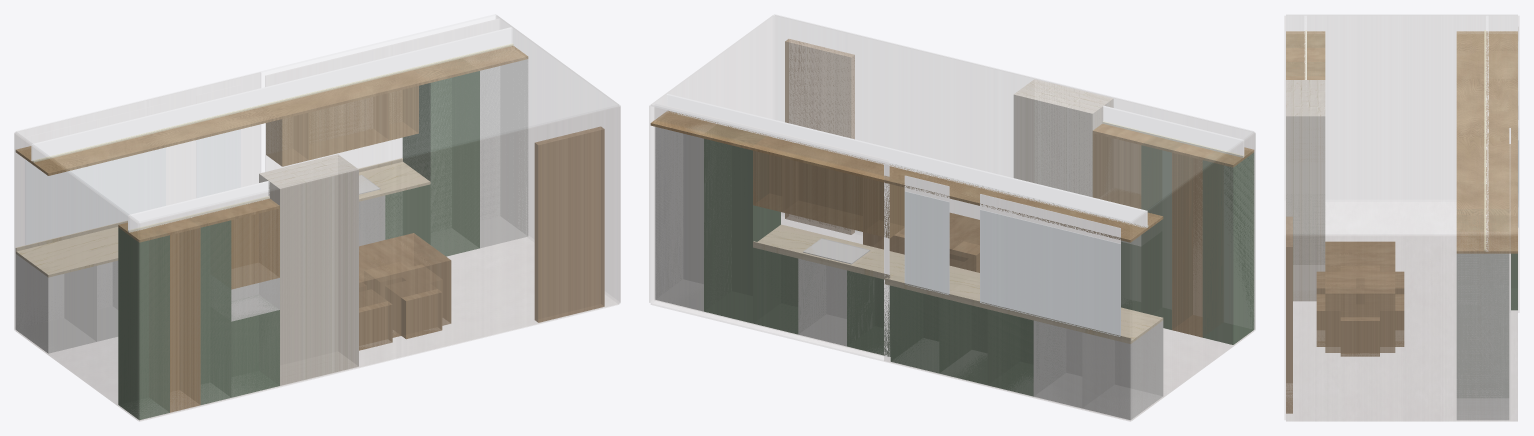
Rendered from cocina.gltf.
3 renders of one model, left to right at view 1: azimuth 30°, elevation 25°; view 2: azimuth 150°, elevation 25°; view 3: azimuth 270°, elevation 25°, orthographic. The views are drawn at different scales.
Visible parts, largest first — view 1: Pared Sur, Techo, Pared Oeste, Columna azulejo, Puerta, Suelo, Escobero, Despensa Sur 2, Pared Este, Ventana grande, Cornisa Norte, Frigorífico (+24 smaller); view 2: Techo, Pared Norte izq, Pared Norte der, Pared Sur, Pared Oeste, Ventana grande, Despensa Sur 2, Escobero, Columna azulejo, Frigorífico, Cornisa Norte, Cajones (×2) (+28 smaller); view 3: Techo, Pared Este, Pared Oeste, Suelo, Cornisa Norte, Frigorífico, Columna azulejo, Mesa comedor, Cornisa Sur, Silla 6, Puerta, Pared Sur (+7 smaller).
Boxes of the visible parts, bbox=[...] form: Pared Sur: bbox=[139, 106, 619, 420]; Techo: bbox=[16, 14, 618, 222]; Pared Oeste: bbox=[14, 133, 138, 419]; Columna azulejo: bbox=[259, 154, 358, 385]; Puerta: bbox=[534, 126, 604, 322]; Suelo: bbox=[16, 237, 618, 421]; Escobero: bbox=[402, 71, 479, 256]; Despensa Sur 2: bbox=[118, 227, 169, 420]; Pared Este: bbox=[496, 16, 620, 302]; Ventana grande: bbox=[25, 148, 165, 244]; Cornisa Norte: bbox=[15, 45, 528, 175]; Frigorífico: bbox=[480, 59, 528, 248]; Techo: bbox=[651, 14, 1253, 222]; Pared Norte izq: bbox=[884, 164, 1130, 420]; Pared Norte der: bbox=[655, 103, 888, 356]; Pared Sur: bbox=[775, 15, 1254, 233]; Pared Oeste: bbox=[1131, 133, 1255, 419]; Ventana grande: bbox=[980, 210, 1120, 336]; Despensa Sur 2: bbox=[1202, 152, 1254, 344]; Escobero: bbox=[704, 138, 780, 323]; Columna azulejo: bbox=[1013, 79, 1113, 196]; Frigorífico: bbox=[655, 127, 703, 311]; Cornisa Norte: bbox=[650, 111, 1163, 242]; Cajones (×2): bbox=[847, 270, 939, 373]; Techo: bbox=[1286, 14, 1517, 234]; Pared Este: bbox=[1286, 235, 1517, 420]; Pared Oeste: bbox=[1286, 15, 1517, 199]; Suelo: bbox=[1286, 201, 1517, 421]; Cornisa Norte: bbox=[1456, 31, 1517, 253]; Frigorífico: bbox=[1456, 253, 1509, 420]; Columna azulejo: bbox=[1286, 80, 1325, 301]; Mesa comedor: bbox=[1325, 241, 1395, 352]; Cornisa Sur: bbox=[1286, 31, 1325, 79]; Silla 6: bbox=[1340, 317, 1379, 356]; Puerta: bbox=[1286, 216, 1292, 413]; Pared Sur: bbox=[1284, 16, 1285, 419].
Bounding box in the file's own units: 5.98 × 2.37 × 2.69.
